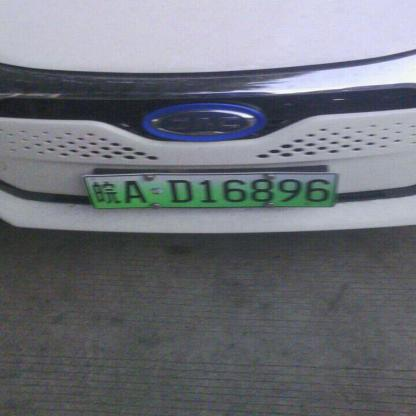lp: (84, 172, 338, 208)
